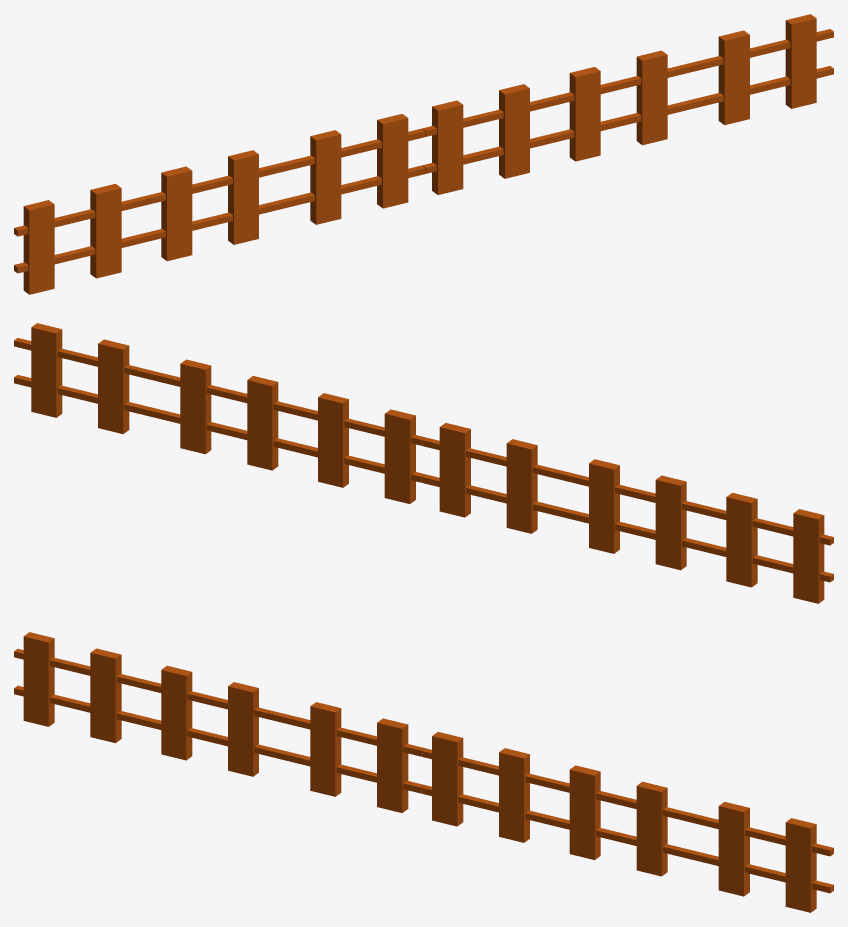
Rendered from cerca.glb.
3 views of the same model, one above another, from view 1: azimuth 30°, elevation 25°; view 2: azimuth 150°, elevation 25°; view 3: azimuth 330°, elevation 25° (orthographic).
Parts seen in each view (by area): view 1: Cube.419; view 2: Cube.419; view 3: Cube.419.
Boxes of the visible parts, box(x1,y1,x2,y2) form: Cube.419: box(14, 14, 833, 294); Cube.419: box(14, 323, 833, 603); Cube.419: box(14, 632, 833, 912).
Size of the model in its own units: 70.38 by 6.95 by 0.8898.
